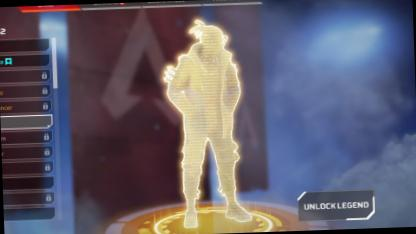Target: (166, 15, 244, 188), (196, 22, 225, 56)
